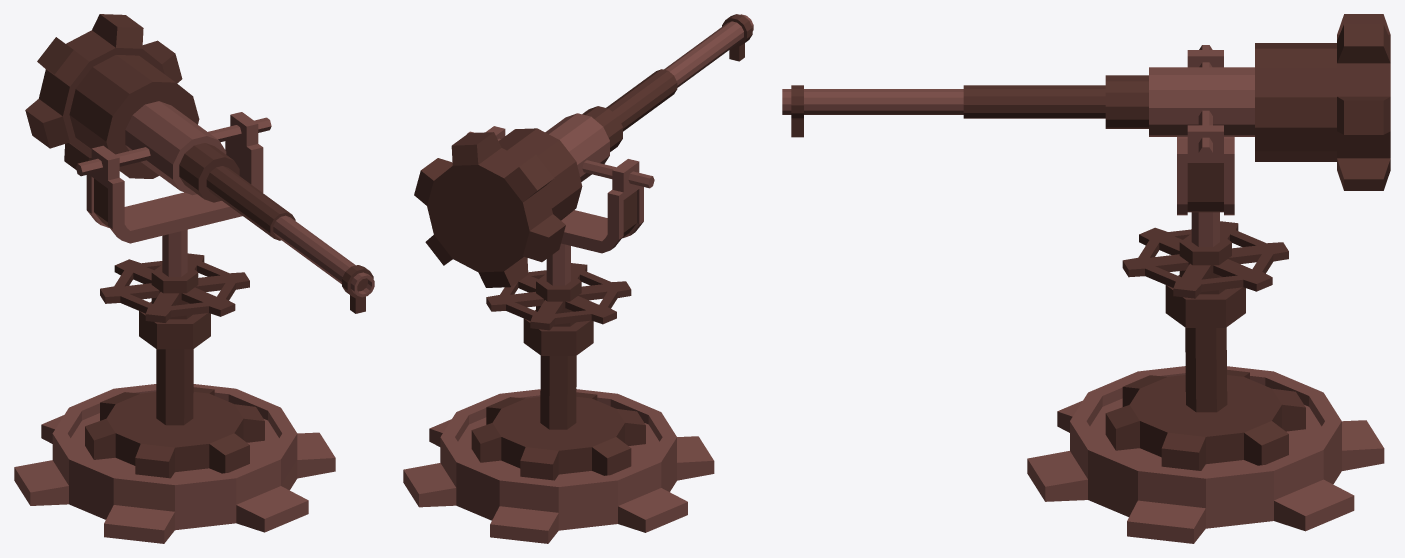
File: quaternius-turret-pack-march-gun-2.glb
3 renders of one model, left to right at view 1: azimuth 30°, elevation 25°; view 2: azimuth 150°, elevation 25°; view 3: azimuth 270°, elevation 25°, orthographic. The views are drawn at different scales.
Visible parts, largest first — view 1: Gun_2_Base; view 2: Gun_2_Base; view 3: Gun_2_Base.
Part boxes in pixels (box(x1,y1,x2,y2)): Gun_2_Base: box(14, 14, 374, 543); Gun_2_Base: box(403, 14, 753, 543); Gun_2_Base: box(782, 14, 1390, 543).
Bounding box in the file's own units: 1.38 × 1.91 × 2.35.
